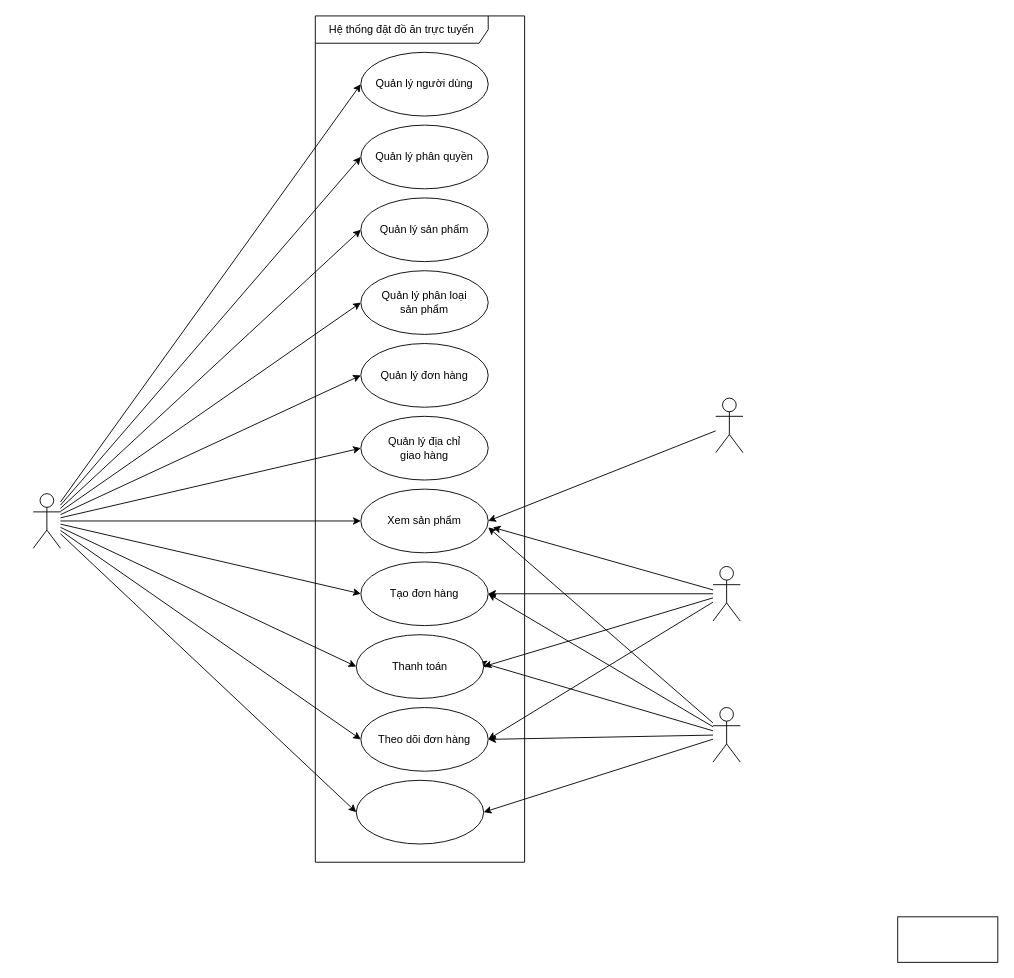
Some shapes in this 1014 by 978 pixel diagram are drawn without their labels. Here are the shapes that lost their labels. From the top down, the centre of each, then its label:
At point (729, 425): "Khách".
At point (46, 520): "Quản trị viên".
At point (726, 593): "Người dùng".
At point (726, 734): "Nhân viên".
At point (419, 811): "Quản lý giao hàng".
At point (947, 939): "Object".
